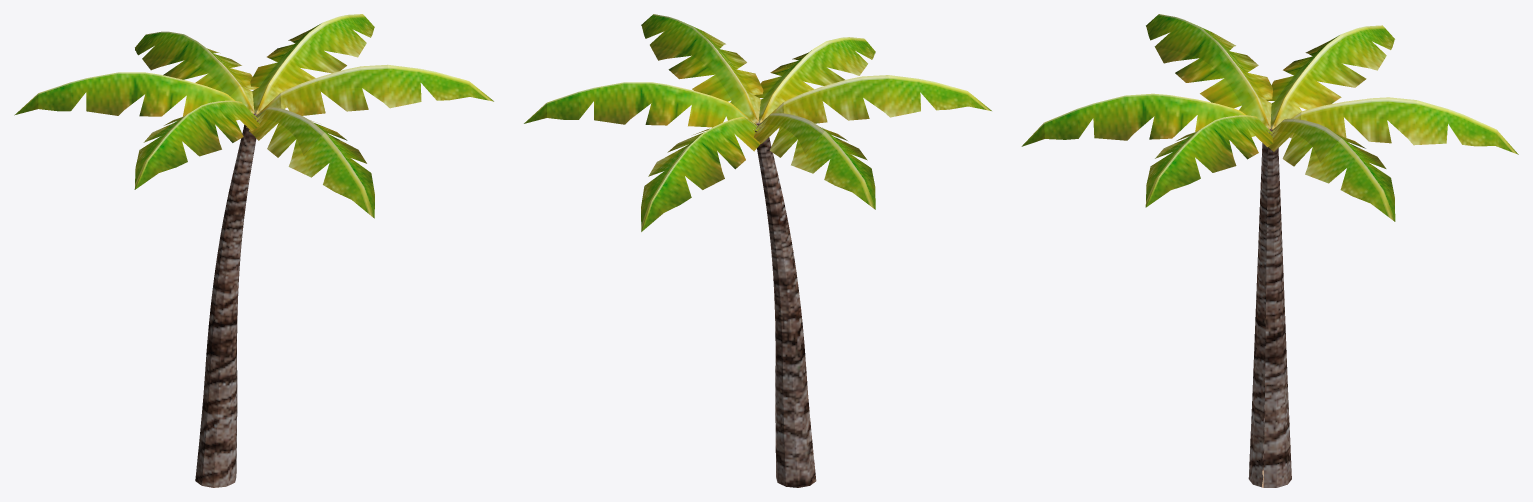
The model's file is palm_tree.fbx.
3 renders of one model, left to right at view 1: azimuth 30°, elevation 25°; view 2: azimuth 150°, elevation 25°; view 3: azimuth 270°, elevation 25°, orthographic. The views are drawn at different scales.
Parts seen in each view (by area): view 1: pCylinder1, pPlane3, pPlane6, pPlane4, pPlane2, pPlane5, pPlane1; view 2: pCylinder1, pPlane2, pPlane5, pPlane1, pPlane3, pPlane6, pPlane4; view 3: pCylinder1, pPlane5, pPlane1, pPlane4, pPlane6, pPlane2, pPlane3.
Boxes of the visible parts, x1,y1,x2,y2 form: pCylinder1: (195, 113, 259, 487); pPlane3: (257, 64, 493, 115); pPlane6: (14, 72, 239, 120); pPlane4: (246, 106, 374, 218); pPlane2: (250, 14, 374, 114); pPlane5: (134, 100, 259, 189); pPlane1: (135, 31, 258, 113); pCylinder1: (755, 122, 816, 487); pPlane2: (524, 82, 755, 127); pPlane5: (761, 75, 991, 128); pPlane1: (641, 117, 760, 231); pPlane3: (641, 14, 763, 123); pPlane6: (754, 113, 875, 209); pPlane4: (754, 37, 875, 122); pCylinder1: (1248, 129, 1291, 487); pPlane5: (1146, 14, 1272, 129); pPlane1: (1289, 97, 1518, 154); pPlane4: (1021, 93, 1254, 146); pPlane6: (1266, 25, 1394, 129); pPlane2: (1268, 118, 1395, 221); pPlane3: (1145, 115, 1273, 207).
Bounding box in the file's own units: 921 × 988 × 1060.
